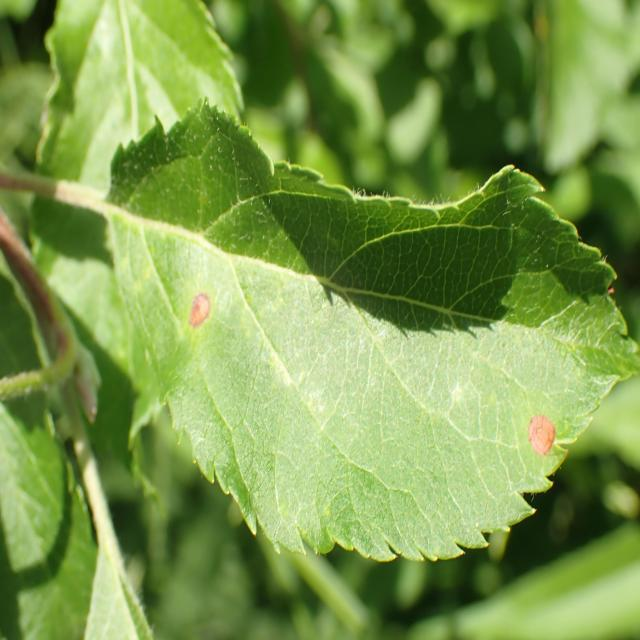Black Rot: (504, 375, 558, 491), (156, 270, 228, 340)
